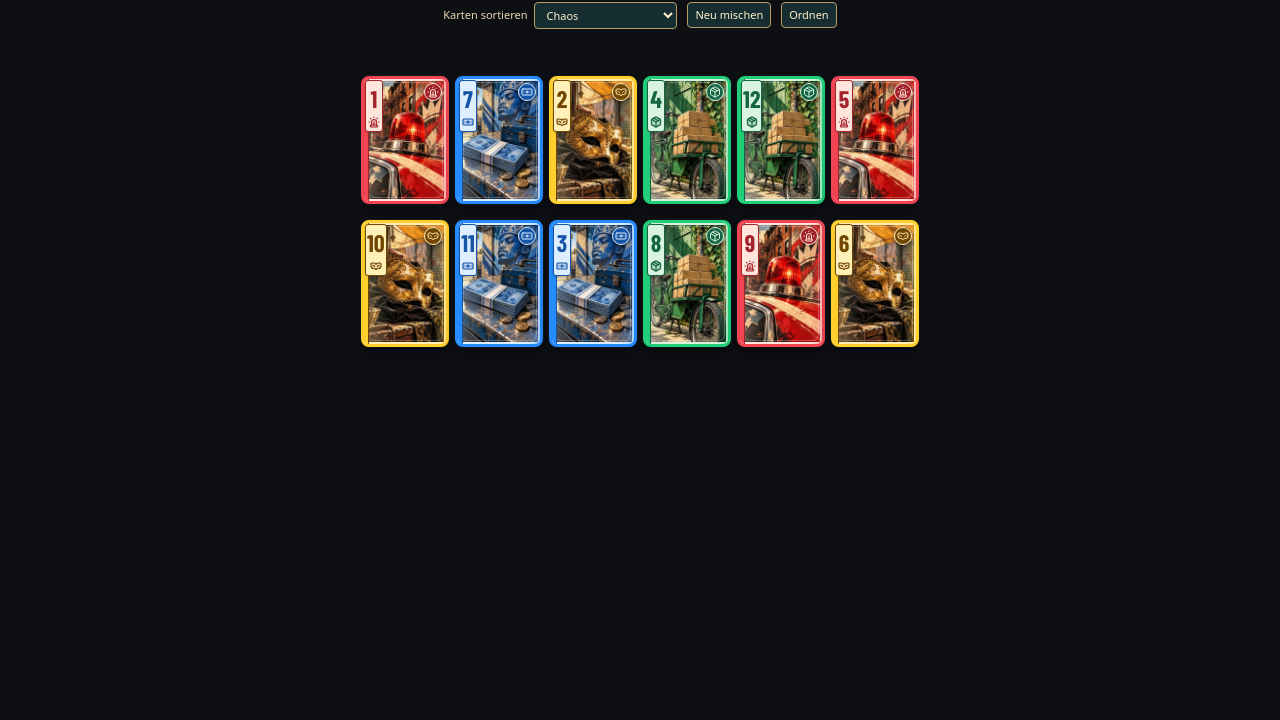
chaos cards can be arranged by tap/keyboard while waiting, without selecting or playing
Later steps or results of the test are not shown.
Click the button with test id "hand-arrange-toggle": (809, 15) 781,2 -> 837,28
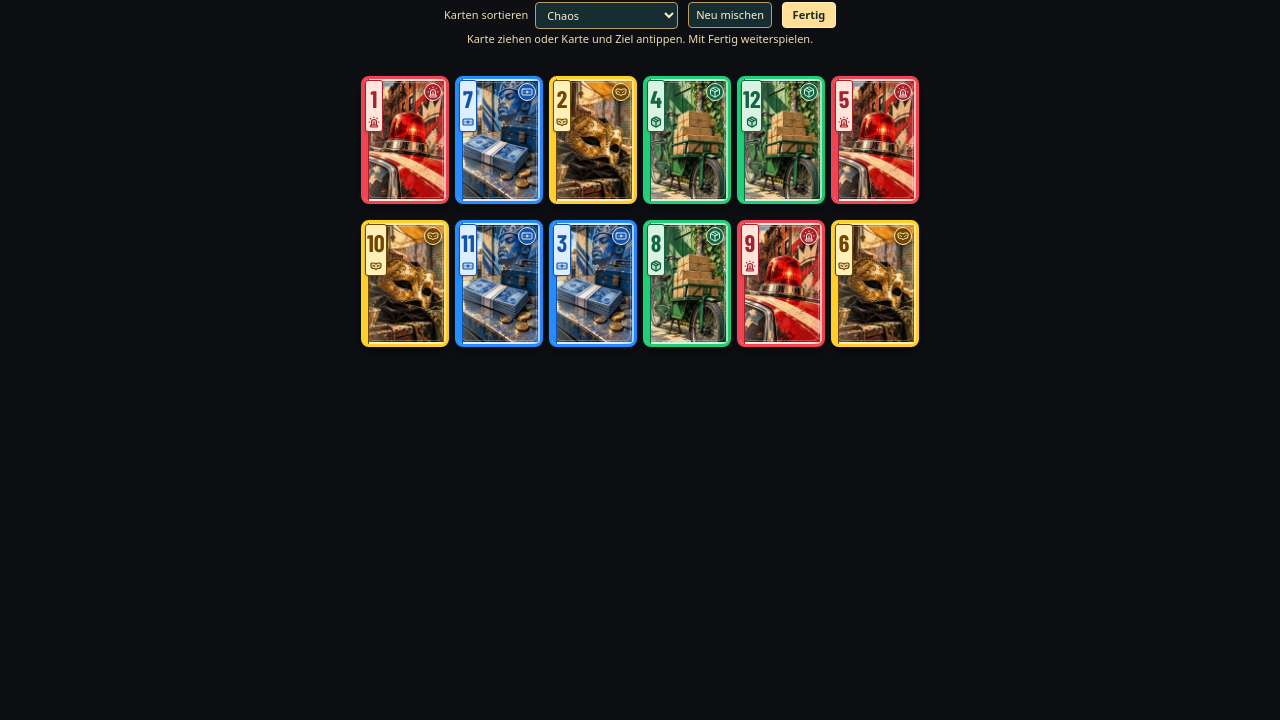
Expected: the element with class "hand-cards-shell" has attribute data-arranging="true", 361,2 -> 919,347
